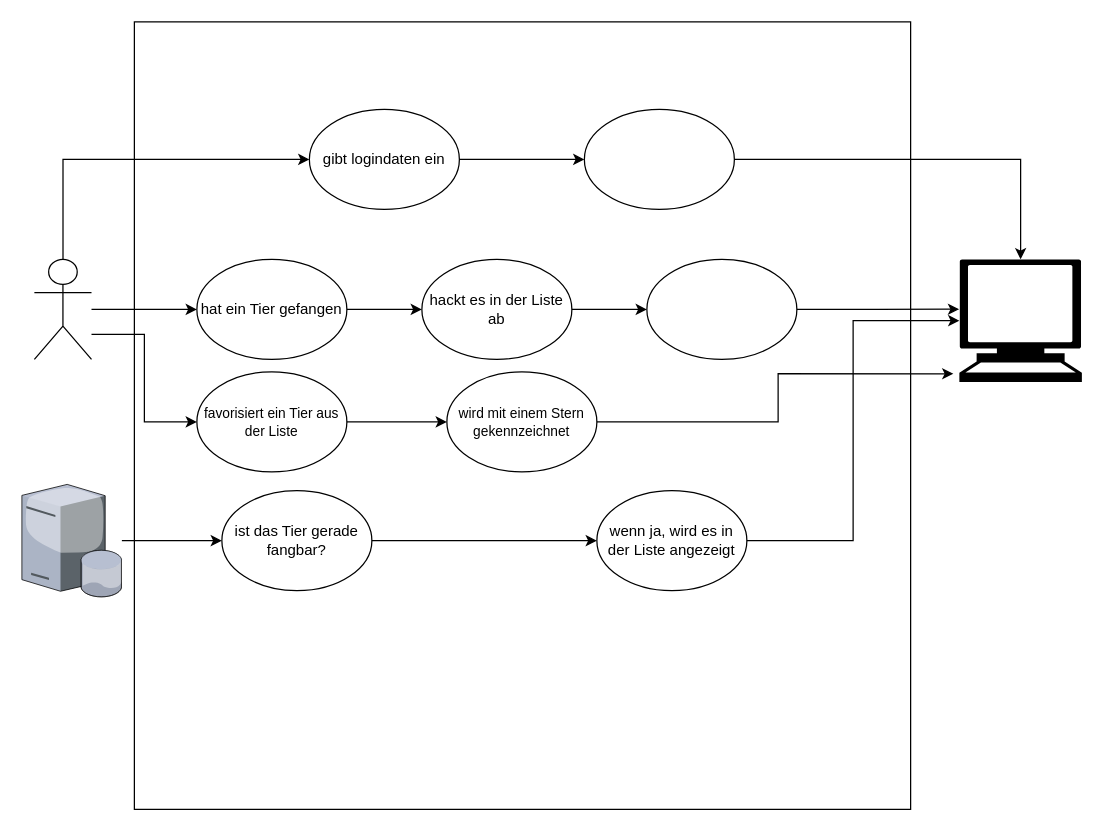
Some shapes in this 1103 by 831 pixel diagram are drawn without their labels. The shapes that lost their labels are listed below. From the top down, each one's box as (x1, y1, x2, y2) in pixels, then its label:
(583, 108, 734, 209): wird eingeloggt
(33, 258, 92, 359): User
(646, 258, 797, 359): wird ausgegraut
